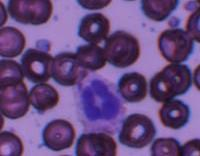N: (75, 72, 125, 133)
